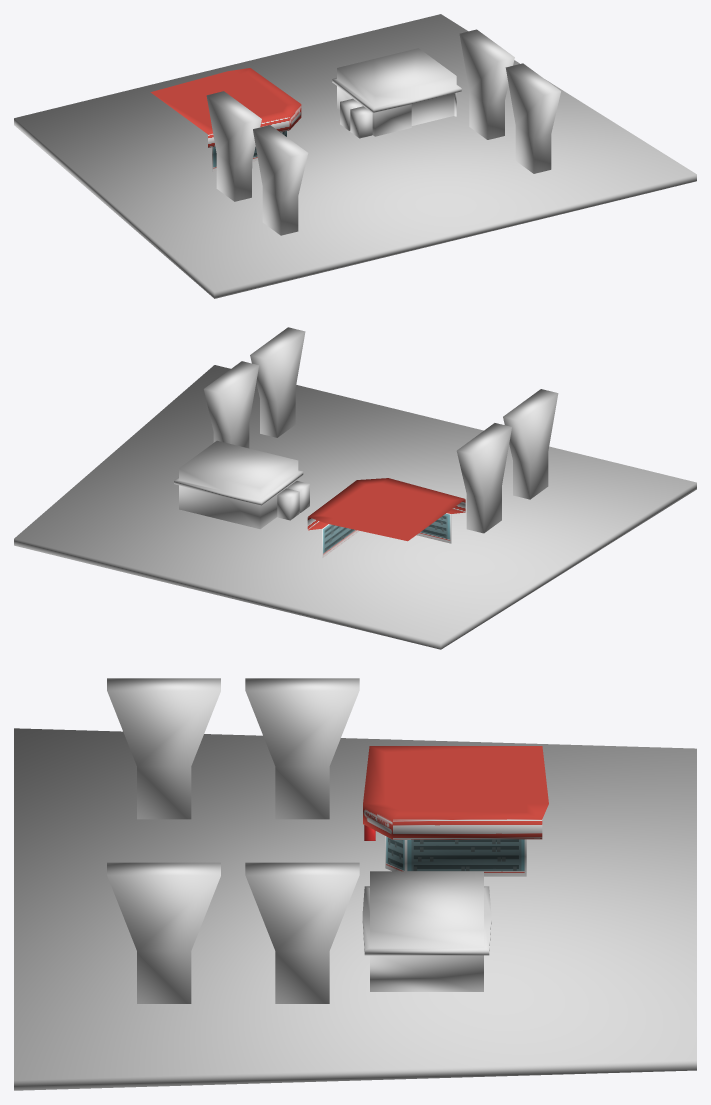
File: underpassEnvironment.fbx
The picture shows the model from 3 angles, top to bottom: view 1: azimuth 30°, elevation 25°; view 2: azimuth 150°, elevation 25°; view 3: azimuth 270°, elevation 25°; orthographic projection. The views are drawn at different scales.
Visible parts, largest first — view 1: Cube, Cube.001, Cube.002, Cube.011, Cube.009, Cube.008, Cube.010, Cube.006; view 2: Cube, Cube.001, Cube.002, Cube.010, Cube.011, Cube.009, Cube.008, Cube.007; view 3: Cube, Cube.002, Cube.001, Cube.008, Cube.009, Cube.010, Cube.011.
Part boxes in pixels (bbox=[...]): Cube: bbox=[14, 14, 696, 298]; Cube.001: bbox=[332, 48, 461, 136]; Cube.002: bbox=[150, 68, 301, 171]; Cube.011: bbox=[253, 125, 308, 235]; Cube.009: bbox=[505, 63, 560, 173]; Cube.008: bbox=[459, 29, 514, 139]; Cube.010: bbox=[206, 91, 261, 201]; Cube.006: bbox=[350, 106, 372, 138]; Cube: bbox=[14, 365, 696, 649]; Cube.001: bbox=[174, 440, 303, 529]; Cube.002: bbox=[307, 478, 465, 557]; Cube.010: bbox=[456, 423, 511, 533]; Cube.011: bbox=[503, 389, 558, 499]; Cube.009: bbox=[250, 327, 305, 437]; Cube.008: bbox=[204, 361, 259, 448]; Cube.007: bbox=[277, 488, 299, 520]; Cube: bbox=[14, 728, 696, 1090]; Cube.002: bbox=[363, 746, 548, 876]; Cube.001: bbox=[362, 871, 491, 991]; Cube.008: bbox=[245, 862, 359, 1003]; Cube.009: bbox=[107, 862, 220, 1003]; Cube.010: bbox=[245, 678, 359, 819]; Cube.011: bbox=[107, 678, 220, 819].
Bounding box in the file's own units: 7393 × 1359 × 6060.
